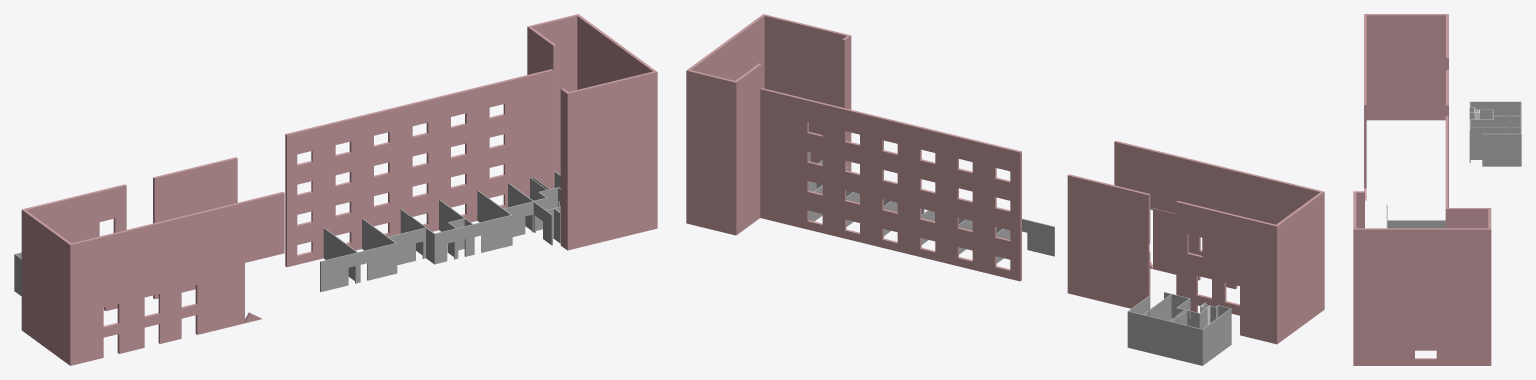
The picture shows the model from 3 angles, left to right: view 1: azimuth 30°, elevation 25°; view 2: azimuth 150°, elevation 25°; view 3: azimuth 270°, elevation 25°; orthographic projection. The views are drawn at different scales.
Size of the model in its own units: 242 by 62.25 by 69.55.
